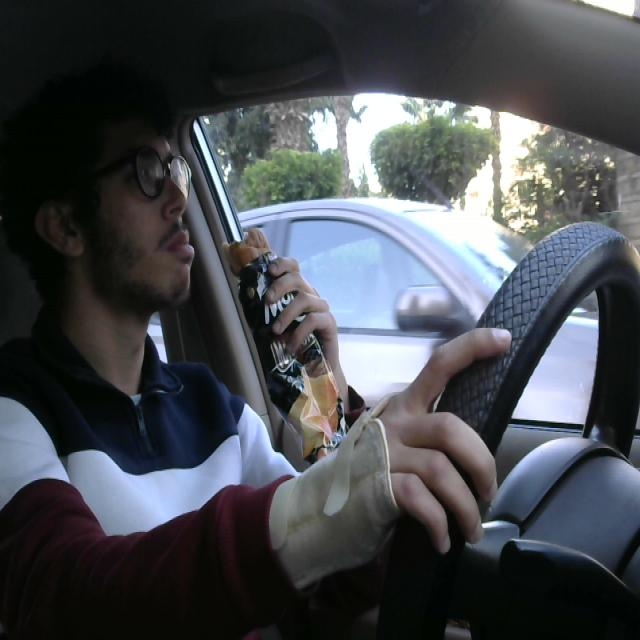eating: (217, 226, 359, 489)
